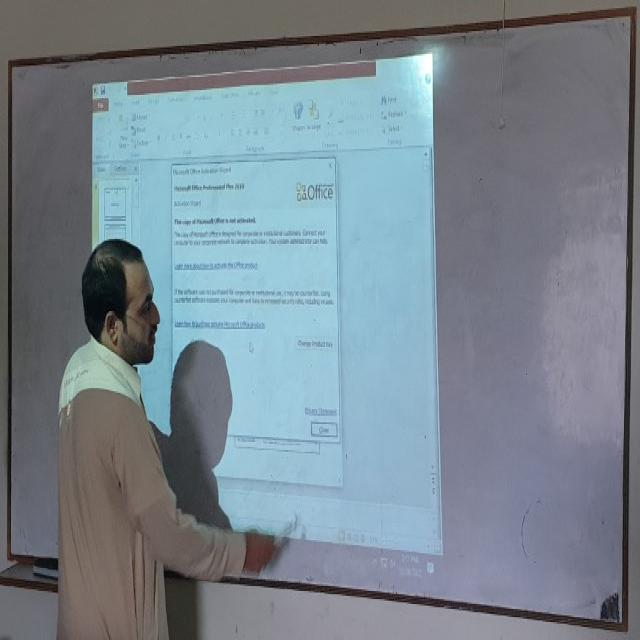Instructor: (40, 226, 172, 640)
Slide: (90, 48, 443, 578)
White-board: (8, 11, 634, 625)
